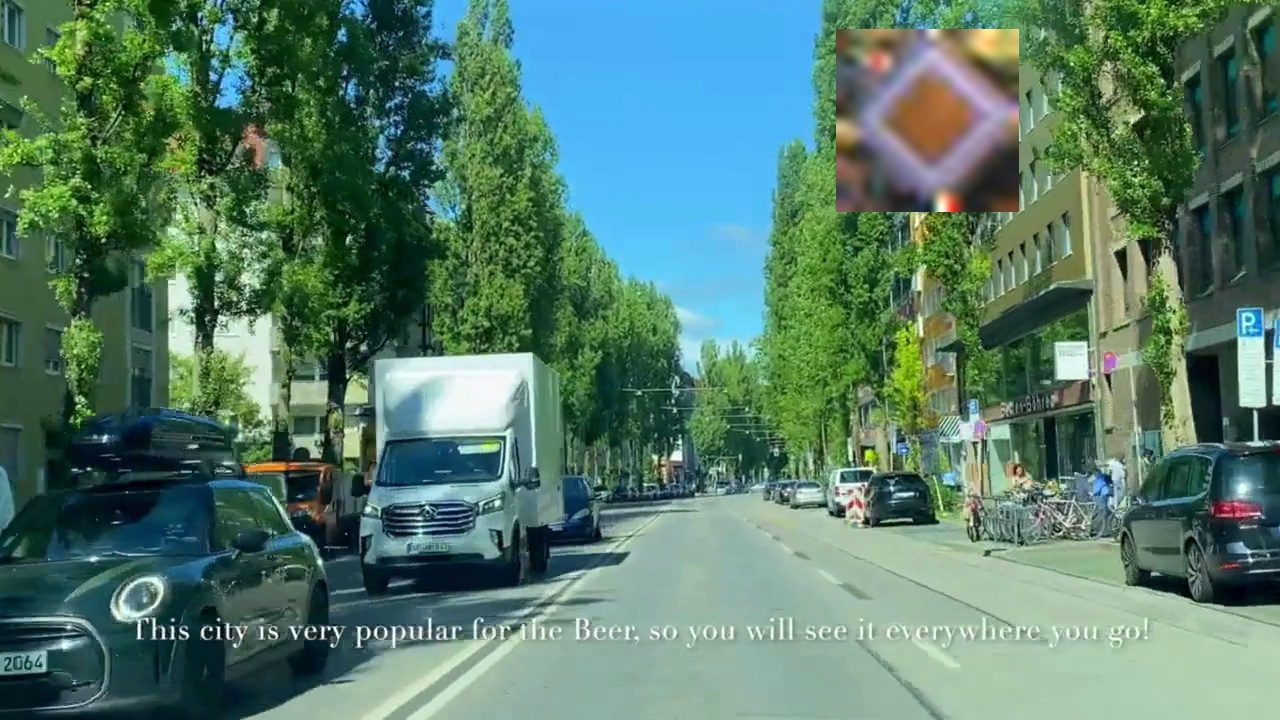Priority road: (836, 29, 1019, 212)
